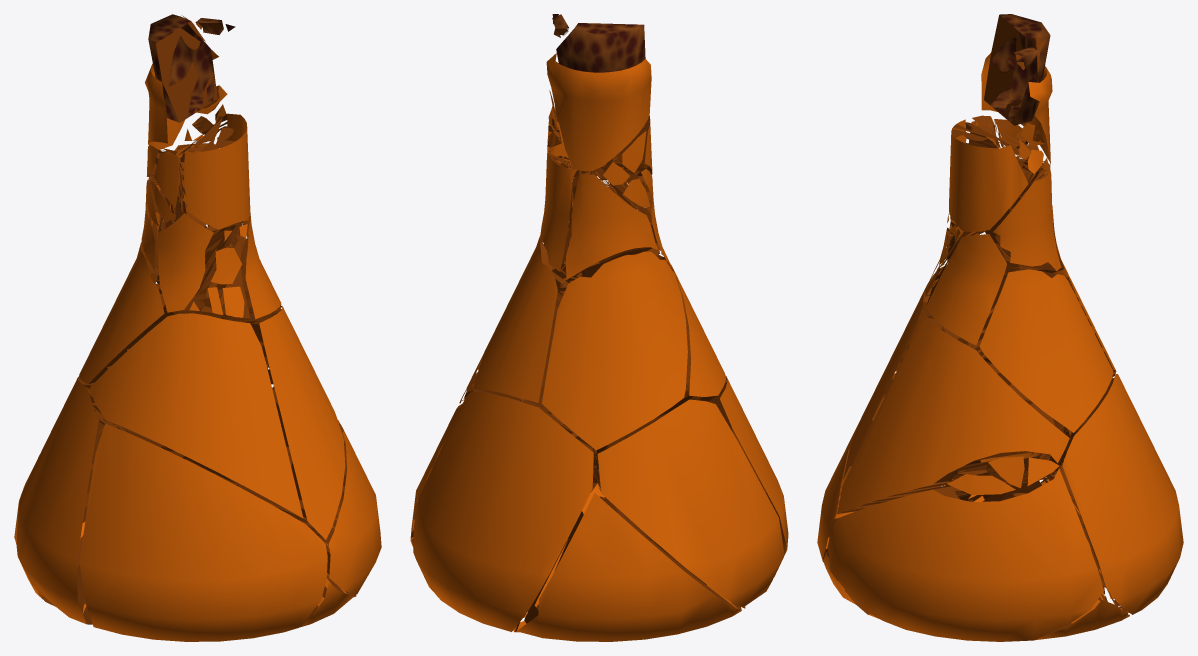
File: fractured_flask.fbx
3 renders of one model, left to right at view 1: azimuth 30°, elevation 25°; view 2: azimuth 150°, elevation 25°; view 3: azimuth 270°, elevation 25°, orthographic. The views are drawn at different scales.
Visible parts, largest first — view 1: Flask_cell.020, Flask_cell.017, Flask_cell.046, Flask_cell.035, Flask_cell.024, Flask_cell.031, Flask_cell.001, Flask_cell.021, Flask_cell.011, Flask_cell.045, Flask_cell.023, Flask_cell.004 (+4 smaller); view 2: Flask_cell.029, Flask_cell.046, Flask_cell.021, Flask_cell.039, Flask_cell.024, Flask_cell.006, Flask_cell.004, Flask_cell.022, Flask_cell.020, Flask_cell.017, Flask_cell.011, Flask_cell.001 (+4 smaller); view 3: Flask_cell.001, Flask_cell.035, Flask_cell.029, Flask_cell.006, Flask_cell.031, Flask_cell.024, Flask_cell.045, Flask_cell.022, Flask_cell.017, Flask_cell.023, Flask_cell.020, Flask_cell.027_cell (+5 smaller).
Boxes of the visible parts, box(x1,y1,x2,y2) form: Flask_cell.020: box(79, 423, 327, 641); Flask_cell.017: box(90, 313, 303, 518); Flask_cell.046: box(17, 376, 128, 624); Flask_cell.035: box(161, 305, 345, 539); Flask_cell.024: box(145, 14, 218, 149); Flask_cell.031: box(178, 113, 250, 229); Flask_cell.001: box(272, 385, 381, 594); Flask_cell.021: box(79, 242, 177, 384); Flask_cell.011: box(157, 174, 236, 312); Flask_cell.045: box(176, 213, 281, 320); Flask_cell.023: box(237, 485, 356, 627); Flask_cell.004: box(141, 152, 181, 273); Flask_cell.029: box(413, 391, 593, 631); Flask_cell.046: box(593, 399, 784, 608); Flask_cell.021: box(542, 251, 687, 450); Flask_cell.039: box(513, 478, 741, 641); Flask_cell.024: box(546, 23, 651, 171); Flask_cell.006: box(473, 234, 583, 404); Flask_cell.004: box(566, 170, 658, 280); Flask_cell.022: box(540, 153, 577, 271); Flask_cell.020: box(626, 376, 788, 576); Flask_cell.017: box(591, 255, 726, 463); Flask_cell.011: box(571, 166, 673, 271); Flask_cell.001: box(410, 396, 631, 539); Flask_cell.001: box(827, 468, 1103, 641); Flask_cell.035: box(837, 314, 1071, 514); Flask_cell.029: box(1050, 374, 1183, 614); Flask_cell.006: box(979, 269, 1113, 432); Flask_cell.031: box(949, 119, 1033, 231); Flask_cell.024: box(981, 14, 1052, 164); Flask_cell.045: box(926, 234, 1019, 344); Flask_cell.022: box(993, 169, 1061, 271); Flask_cell.017: box(843, 266, 1061, 479); Flask_cell.023: box(823, 473, 1129, 640); Flask_cell.020: box(817, 344, 995, 561); Flask_cell.027_cell: box(947, 474, 1015, 495).
Size of the model in its own units: 11.52 by 18.89 by 11.52.
